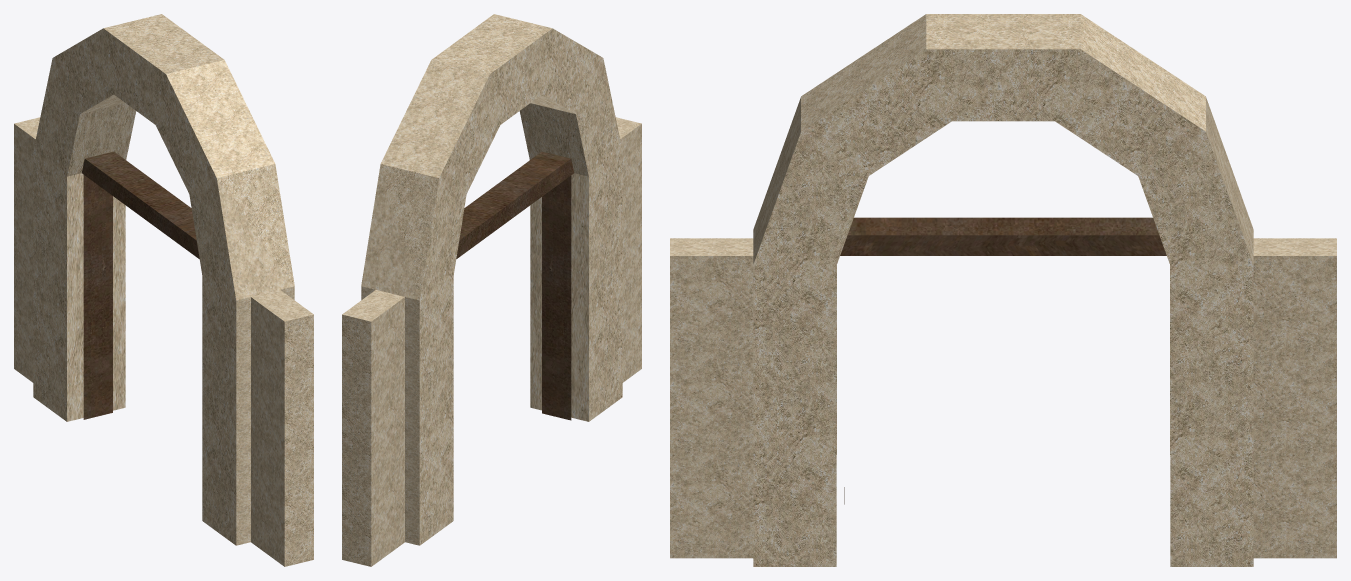
Rendered from thm_tato_imprv_wallgate_s01_l2.fbx.
3 renders of one model, left to right at view 1: azimuth 30°, elevation 25°; view 2: azimuth 150°, elevation 25°; view 3: azimuth 270°, elevation 25°, orthographic. The views are drawn at different scales.
Visible parts, largest first — view 1: mesh_node; view 2: mesh_node; view 3: mesh_node.
Boxes of the visible parts, <box> form: mesh_node: <box>14,14,313,566</box>; mesh_node: <box>342,14,641,566</box>; mesh_node: <box>670,14,1336,566</box>.
Bounding box in the file's own units: 1 × 6.85 × 8.
